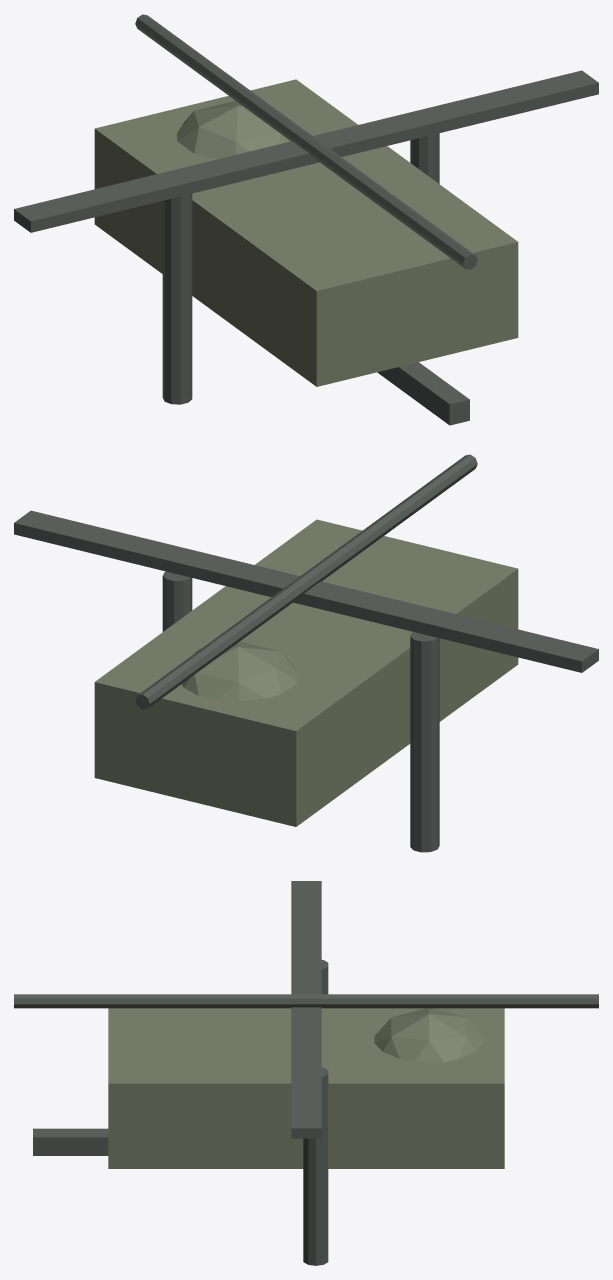
The model's file is gunship.glb.
3 views of the same model, one above another, from view 1: azimuth 30°, elevation 25°; view 2: azimuth 150°, elevation 25°; view 3: azimuth 270°, elevation 25° (orthographic). The views are drawn at different scales.
Parts seen in each view (by area): view 1: p0, p2, p3, p5, p1, p4, p6; view 2: p0, p2, p3, p5, p1, p6; view 3: p0, p3, p2, p1, p6, p4.
Boxes of the visible parts, x1,y1,x2,y2 form: p0: (94, 79, 518, 386); p2: (14, 70, 598, 232); p3: (135, 14, 477, 269); p5: (162, 193, 192, 404); p1: (177, 100, 290, 158); p4: (377, 362, 469, 425); p6: (410, 133, 439, 183); p0: (94, 519, 518, 826); p2: (14, 510, 598, 672); p3: (135, 454, 477, 709); p5: (410, 632, 439, 852); p1: (181, 641, 298, 701); p6: (162, 571, 192, 631); p0: (108, 1008, 504, 1168); p3: (14, 994, 598, 1008); p2: (291, 881, 321, 1138); p1: (374, 1008, 483, 1062); p6: (303, 1067, 328, 1265); p4: (33, 1128, 108, 1155).
Bounding box in the file's own units: 6.2 × 2.48 × 6.2.
